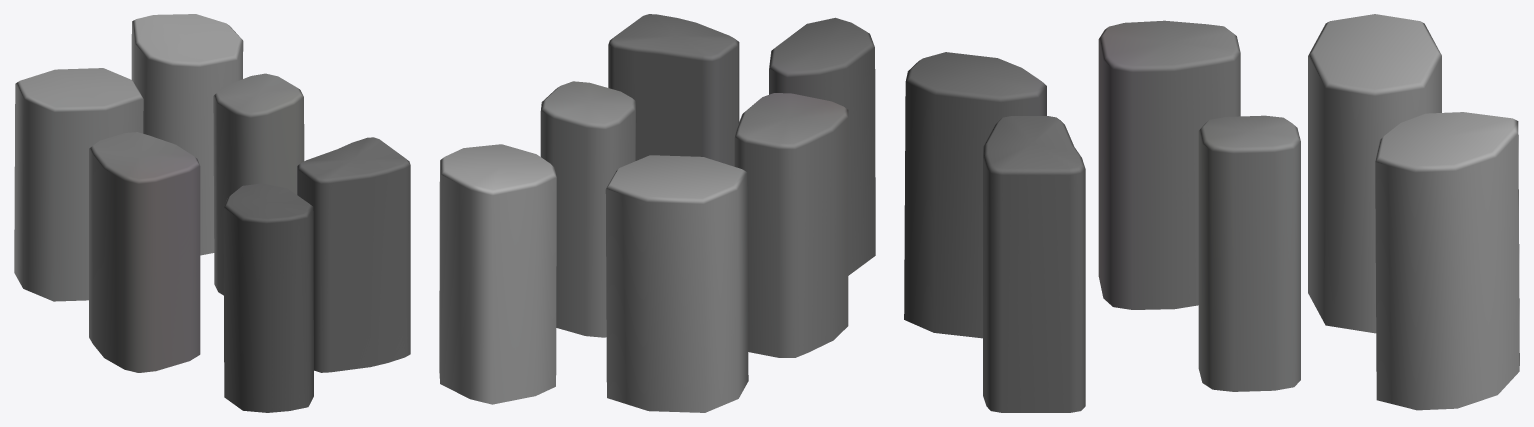
Rendered from M_Steppingstones_03.fbx.
The picture shows the model from 3 angles, left to right: view 1: azimuth 30°, elevation 25°; view 2: azimuth 150°, elevation 25°; view 3: azimuth 270°, elevation 25°; orthographic projection. The views are drawn at different scales.
Visible parts, largest first — view 1: M_Steppingstones_03; view 2: M_Steppingstones_03; view 3: M_Steppingstones_03.
Part boxes in pixels (x1,y1,x2,y2): M_Steppingstones_03: (14,14,410,412); M_Steppingstones_03: (439,14,875,412); M_Steppingstones_03: (904,14,1519,412).
Size of the model in its own units: 136 by 111 by 239.
1 material, 1 textured.
